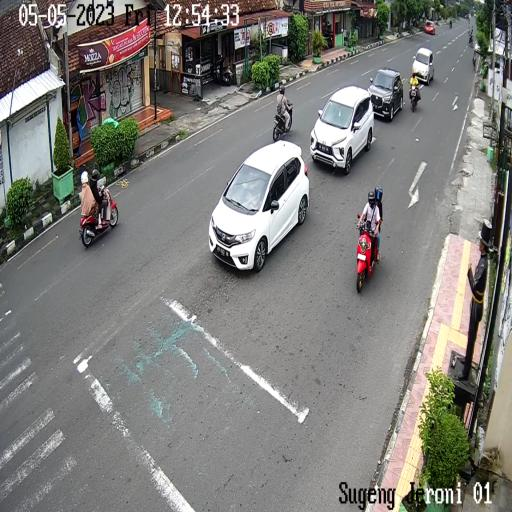mobil: (208, 140, 310, 275), (311, 84, 375, 176), (366, 66, 405, 126), (412, 46, 435, 82)
motor: (78, 182, 118, 247), (356, 213, 384, 294), (271, 93, 296, 141), (407, 77, 422, 114)
